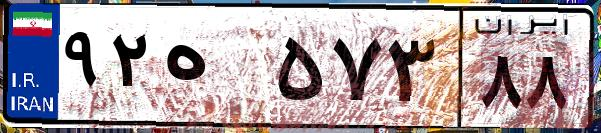2: (110, 28, 158, 98)
3: (385, 28, 445, 110)
5: (270, 28, 330, 110)
7: (330, 28, 385, 110)
8: (475, 38, 525, 113), (525, 38, 570, 115)
9: (57, 26, 110, 100)
ه: (158, 20, 270, 120)
